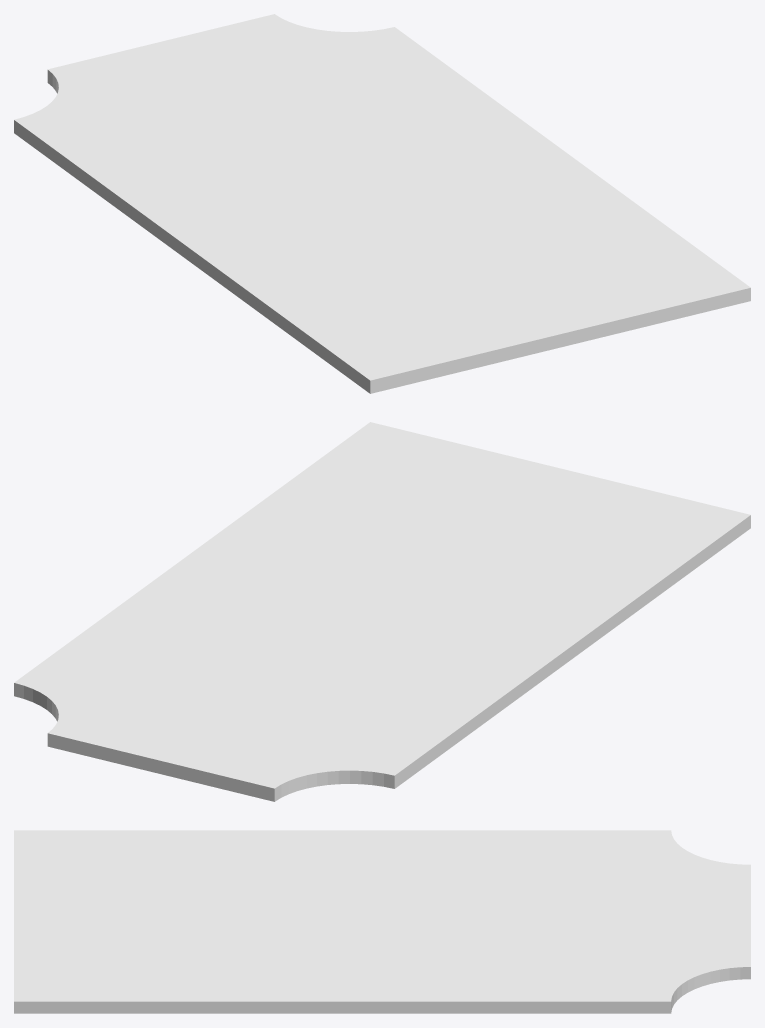
File: door3.fbx
The picture shows the model from 3 angles, top to bottom: view 1: azimuth 30°, elevation 25°; view 2: azimuth 150°, elevation 25°; view 3: azimuth 270°, elevation 25°; orthographic projection. The views are drawn at different scales.
Parts seen in each view (by area): view 1: Curve.002; view 2: Curve.002; view 3: Curve.002.
Boxes of the visible parts, x1,y1,x2,y2 form: Curve.002: [14, 14, 750, 393]; Curve.002: [14, 422, 750, 801]; Curve.002: [14, 830, 750, 1013].
Bounding box in the file's own units: 15.52 × 0.5204 × 28.22.
